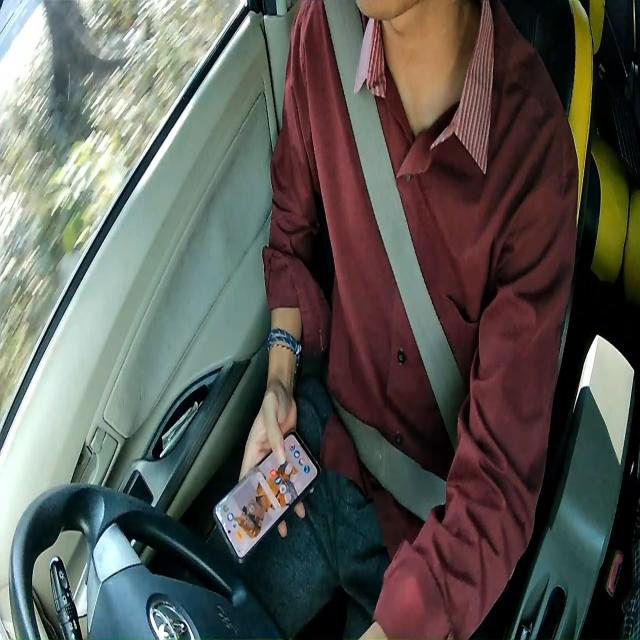phone: (211, 425, 320, 563)
